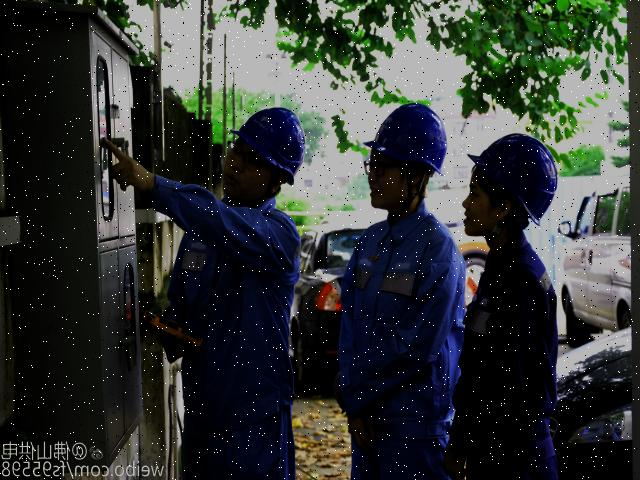Helmet: (462, 129, 562, 232), (361, 100, 452, 184), (225, 102, 308, 191)
